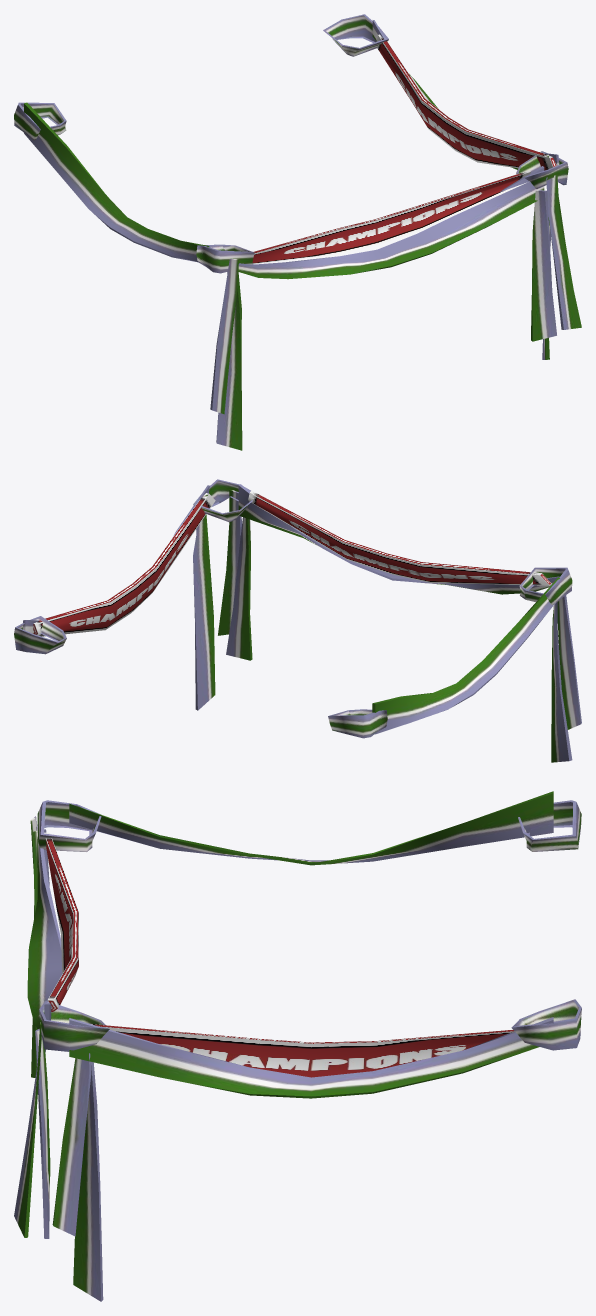
Rendered from Ribon.FBX.
The picture shows the model from 3 angles, top to bottom: view 1: azimuth 30°, elevation 25°; view 2: azimuth 150°, elevation 25°; view 3: azimuth 270°, elevation 25°; orthographic projection. The views are drawn at different scales.
Parts seen in each view (by area): view 1: Box203; view 2: Box203; view 3: Box203.
Boxes of the visible parts, left/top/right/bottom form: Box203: left=14, top=14, right=581, bottom=450; Box203: left=14, top=479, right=581, bottom=762; Box203: left=14, top=791, right=581, bottom=1301.
Size of the model in its own units: 67.93 by 37.77 by 68.13.
2 materials, 2 textured.
